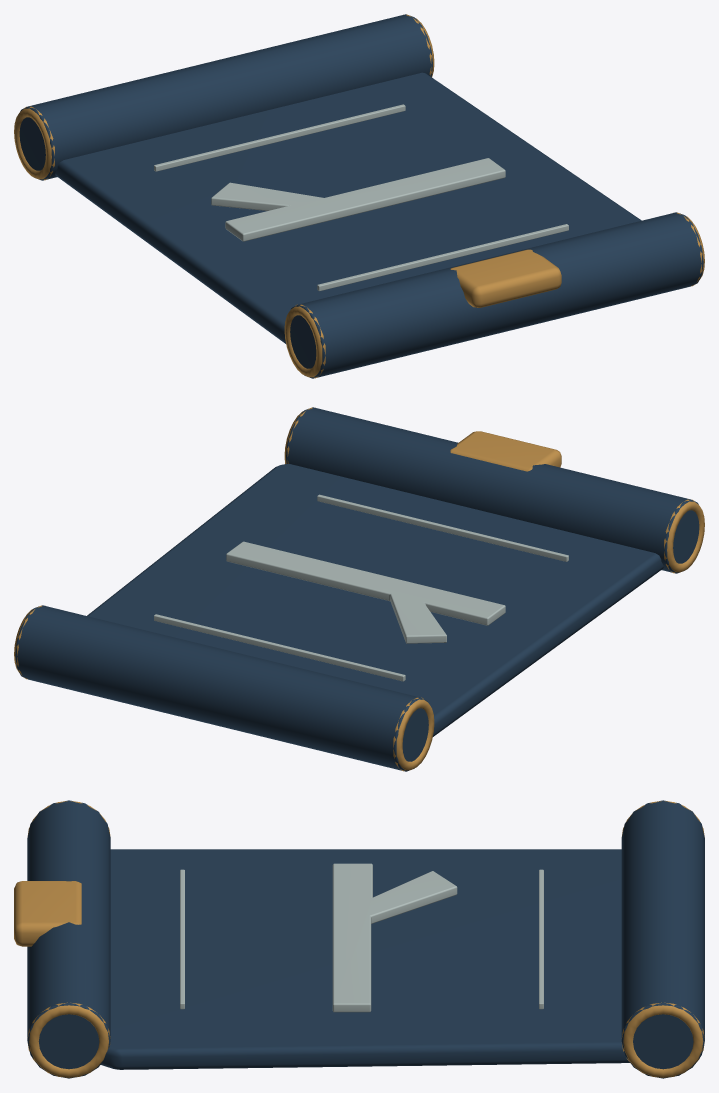
The model's file is bp_shotgun.glb.
3 views of the same model, one above another, from view 1: azimuth 30°, elevation 25°; view 2: azimuth 150°, elevation 25°; view 3: azimuth 270°, elevation 25° (orthographic). The views are drawn at different scales.
Visible parts, largest first — view 1: SM_bp_shotgun; view 2: SM_bp_shotgun; view 3: SM_bp_shotgun.
Boxes of the visible parts, bbox=[...] form: SM_bp_shotgun: bbox=[14, 14, 704, 378]; SM_bp_shotgun: bbox=[14, 407, 704, 771]; SM_bp_shotgun: bbox=[14, 800, 704, 1078].
Bounding box in the file's own units: 0.2963 × 0.05 × 0.414.
